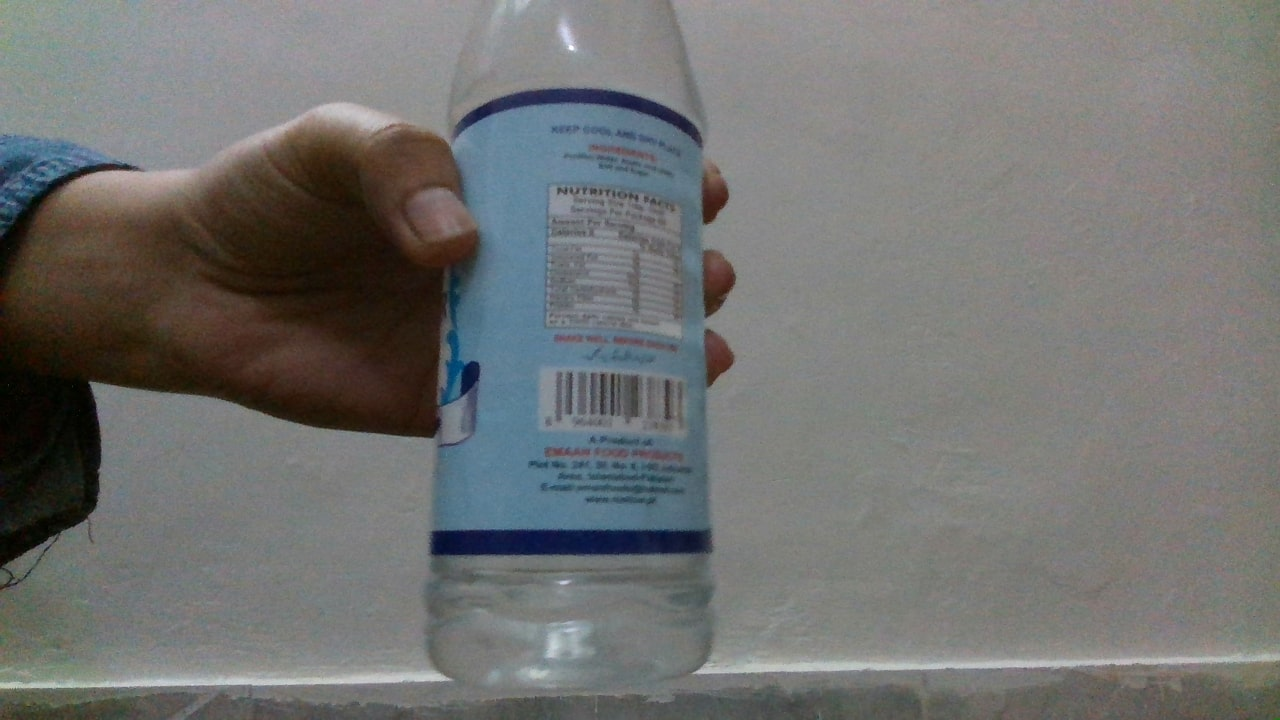Barcode: (550, 368, 687, 430)
